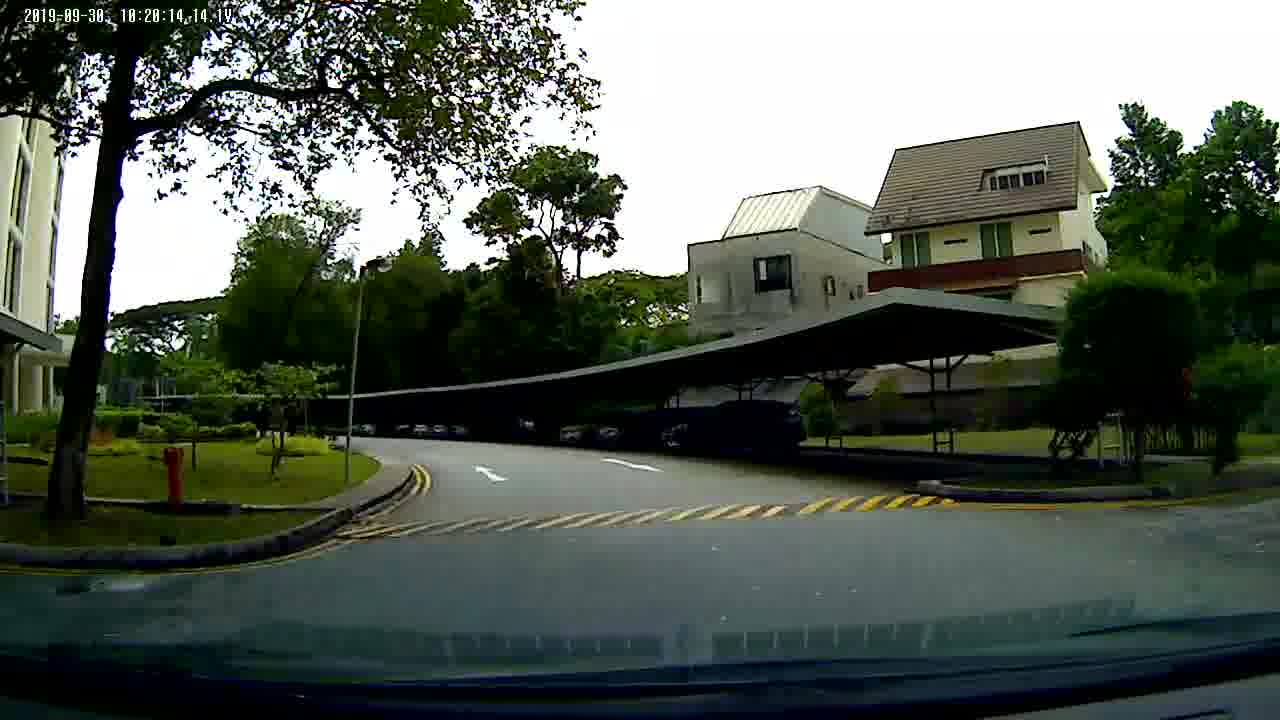car: (665, 400, 818, 460)
